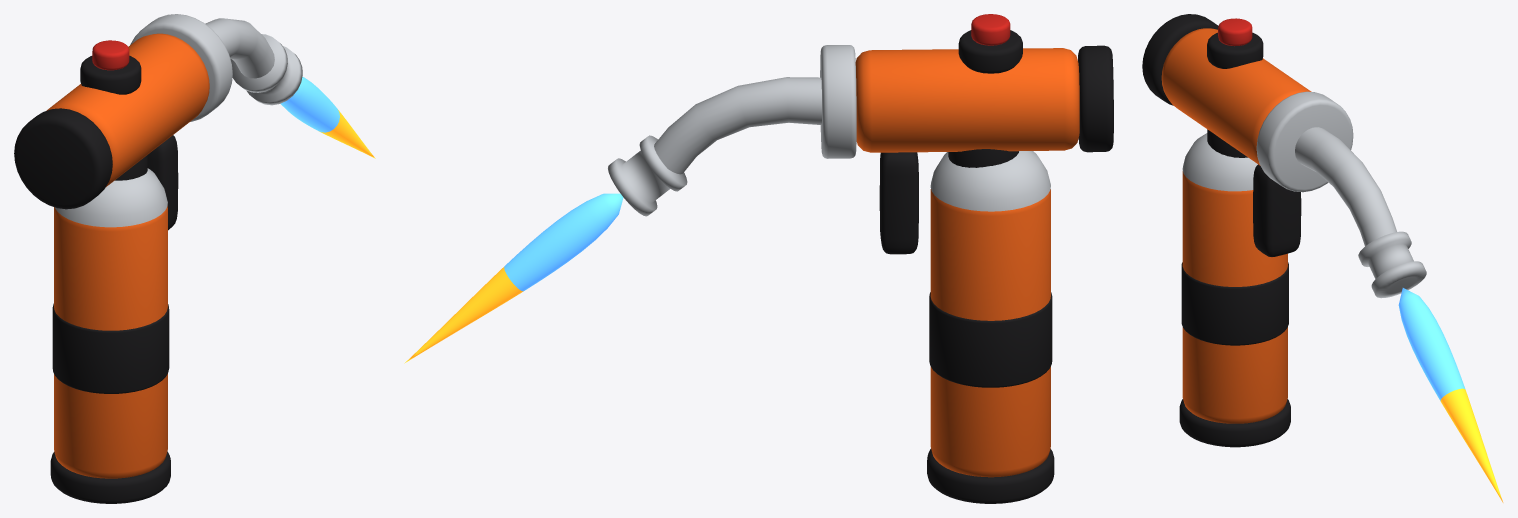
The model's file is macarico.glb.
3 renders of one model, left to right at view 1: azimuth 30°, elevation 25°; view 2: azimuth 150°, elevation 25°; view 3: azimuth 270°, elevation 25°, orthographic. The views are drawn at different scales.
Parts seen in each view (by area): view 1: macarico_corpo, macarico_pretos, macarico_bico, chama, macarico_botao; view 2: macarico_corpo, macarico_pretos, macarico_bico, chama, macarico_botao; view 3: macarico_corpo, macarico_pretos, macarico_bico, chama, macarico_botao.
Boxes of the visible parts, x1,y1,x2,y2 form: macarico_corpo: [46, 33, 209, 478]; macarico_pretos: [14, 55, 178, 503]; macarico_bico: [55, 14, 302, 227]; chama: [281, 77, 375, 158]; macarico_botao: [92, 40, 129, 70]; macarico_corpo: [855, 48, 1079, 477]; macarico_pretos: [879, 30, 1113, 503]; macarico_bico: [608, 45, 1050, 216]; chama: [404, 193, 623, 363]; macarico_botao: [971, 14, 1010, 45]; macarico_corpo: [1161, 28, 1311, 423]; macarico_pretos: [1142, 14, 1301, 447]; macarico_bico: [1182, 91, 1426, 298]; chama: [1398, 288, 1503, 502]; macarico_botao: [1218, 18, 1252, 46].
Size of the model in its own units: 0.1858 by 0.1493 by 0.1219.
